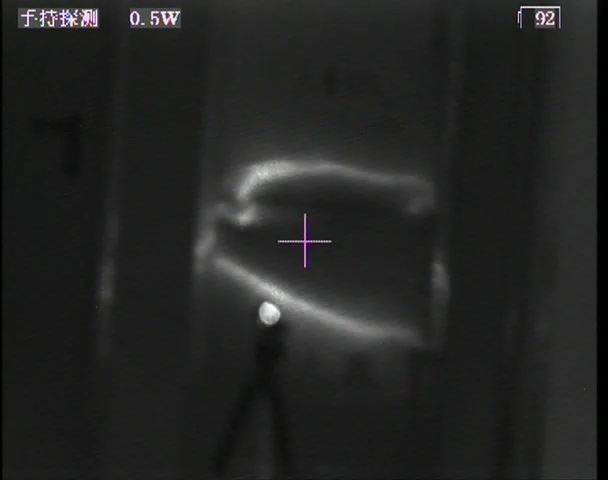my: (255, 300, 283, 325)
